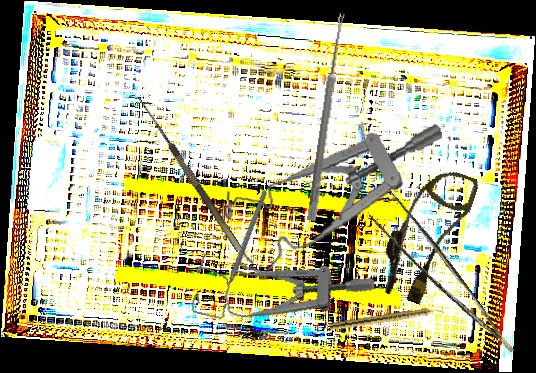Cannula: (372, 158, 481, 311)
Chopper: (187, 188, 305, 307)
Handpiece: (328, 305, 445, 333)
Hook Surgical: (128, 94, 243, 258)
Speculum: (217, 121, 455, 278), (185, 237, 378, 352)
Surgical Spoon: (307, 12, 346, 222)
Tissue Forceps: (361, 182, 515, 373)
